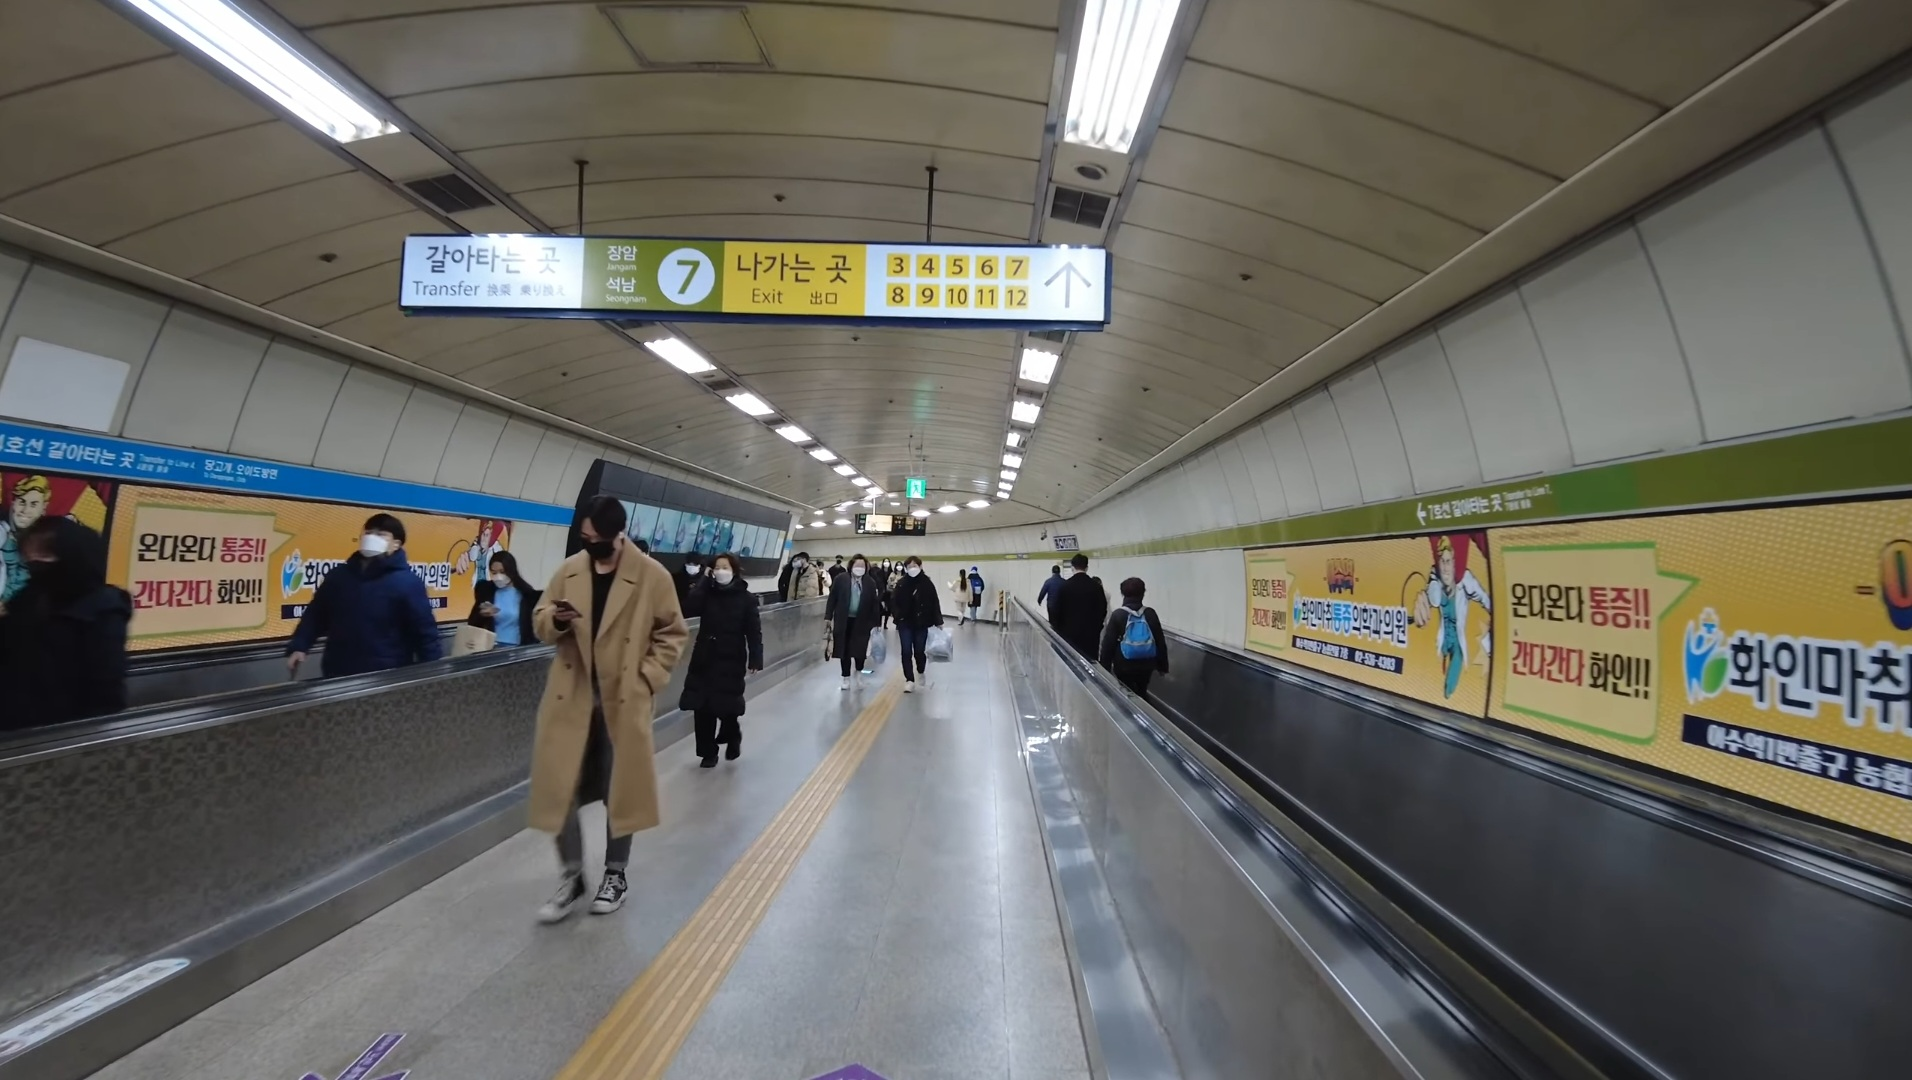signBoard: (389, 218, 1116, 342)
